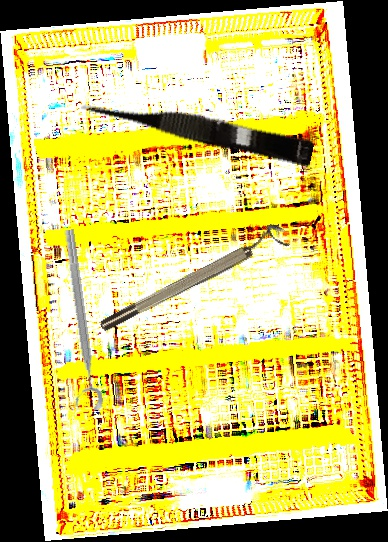Fixation Ring: (93, 219, 292, 336), (49, 228, 105, 413)
Micro Scissor: (78, 87, 316, 168)
